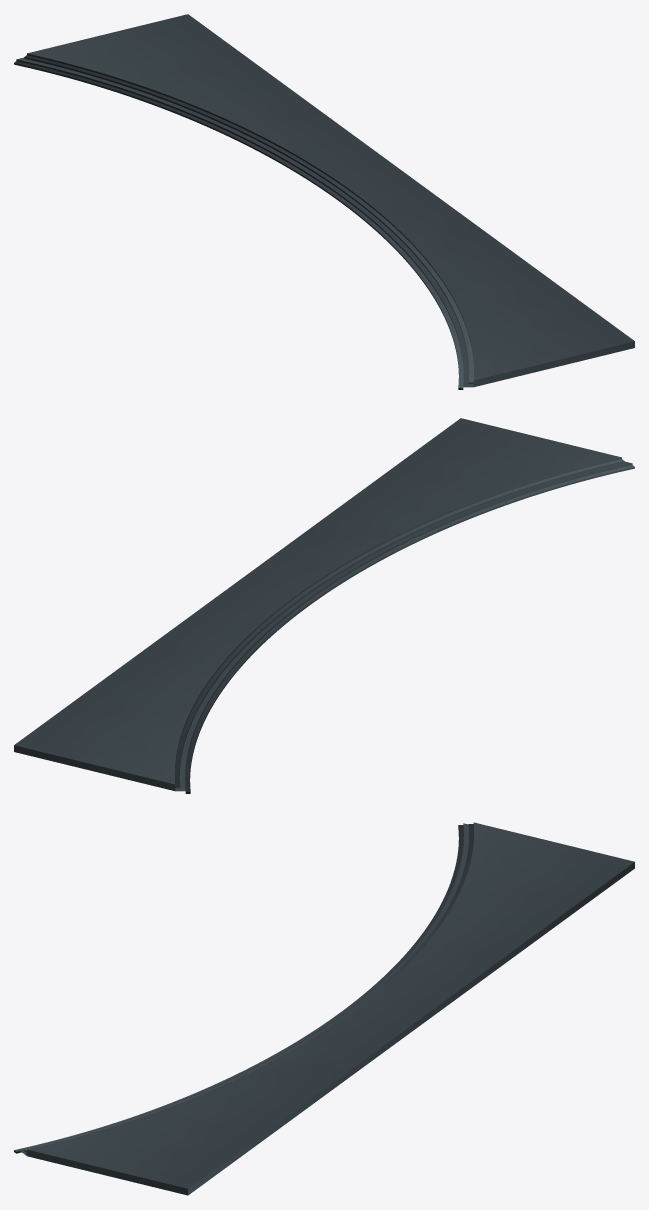
File: Stairs.glb
3 views of the same model, one above another, from view 1: azimuth 30°, elevation 25°; view 2: azimuth 150°, elevation 25°; view 3: azimuth 330°, elevation 25° (orthographic).
Parts seen in each view (by area): view 1: Stairs; view 2: Stairs; view 3: Stairs.
Part boxes in pixels (left/top/right/bottom): Stairs: left=14, top=14, right=634, bottom=389; Stairs: left=14, top=418, right=634, bottom=793; Stairs: left=14, top=822, right=634, bottom=1195.
Size of what is drawn, in the model's own units: 40.79 by 1.5 by 180.
1 material, 1 textured.
